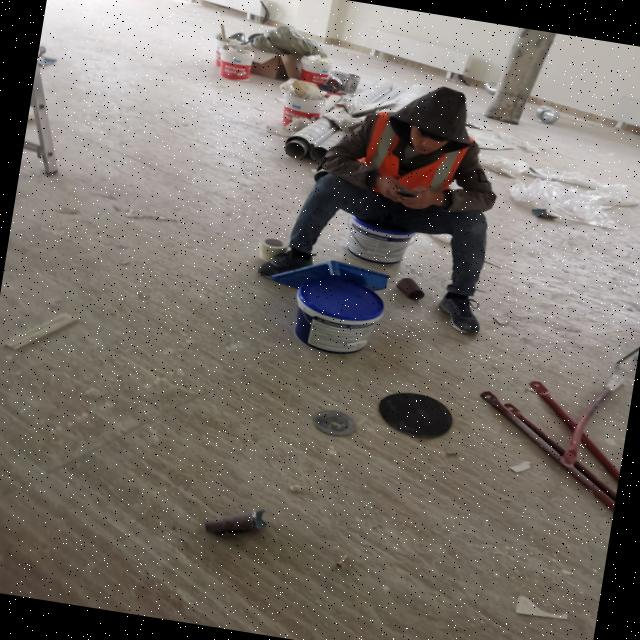NoHelmet: (396, 88, 475, 163)
